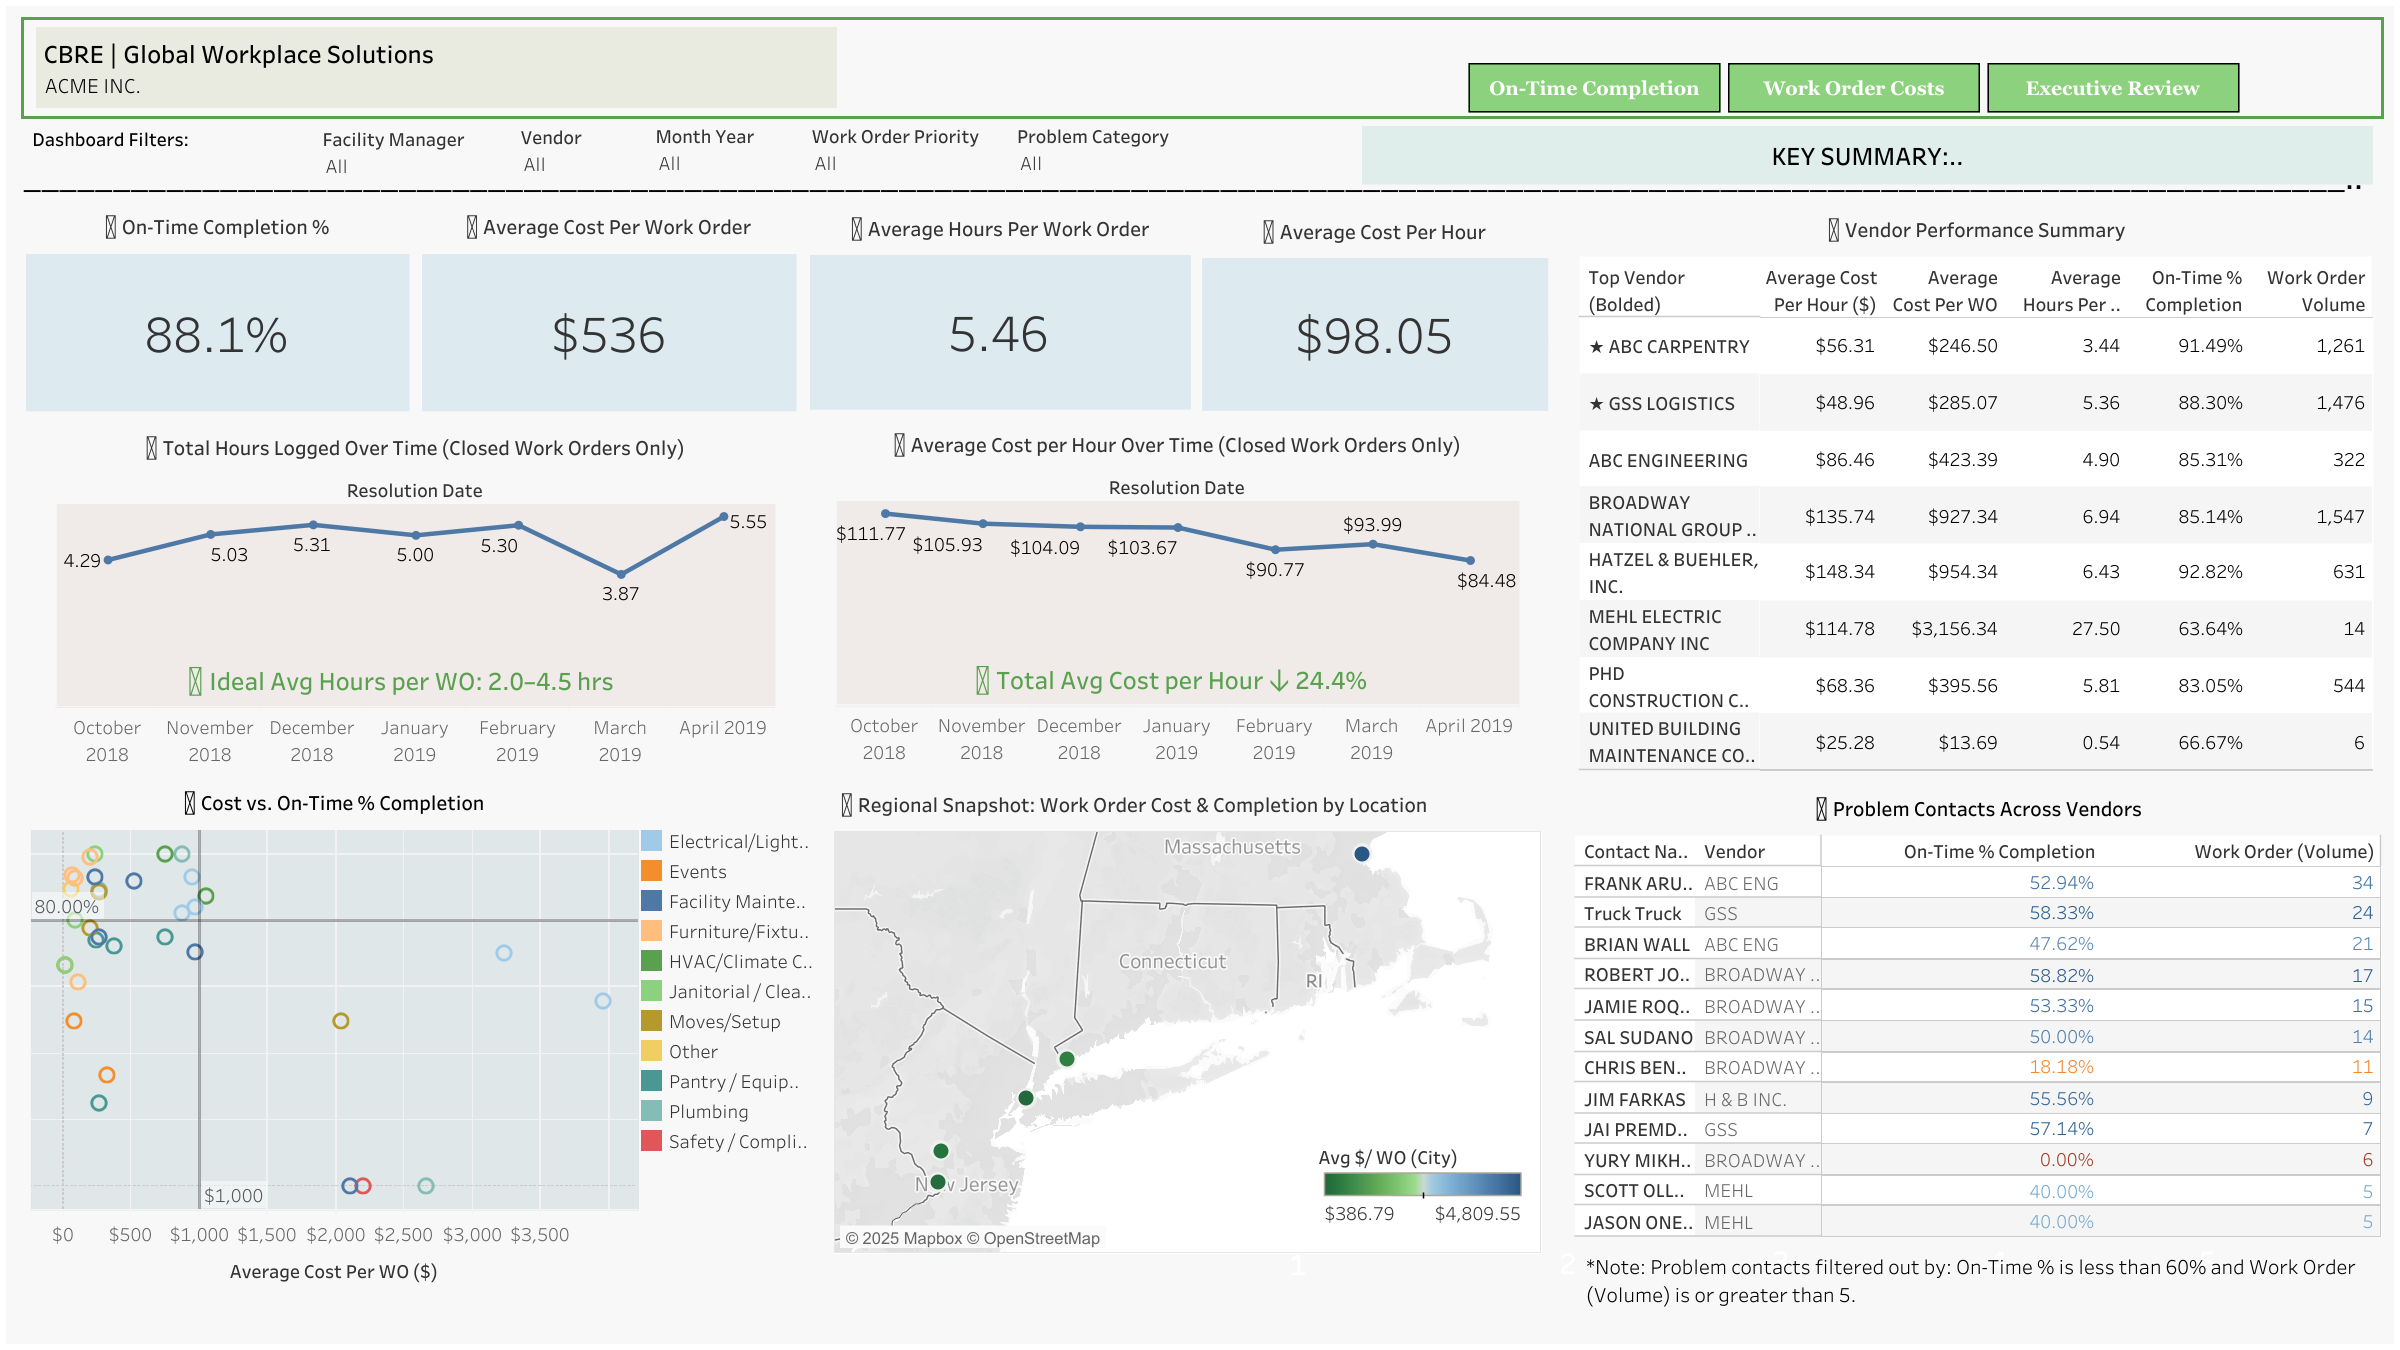

Layout of this report page (visuals, bound fields, positions):
{"tool":"tableau","page":{"name":"Executive Review","canvas":[1600,900],"ordinal":0},"visuals":[{"type":"blank","box":[0,0,1600,900]},{"type":"text","box":[14,11,1575,69]},{"type":"blank","box":[24,18,534.4,54]},{"type":"dashboard-object","box":[979.2,41.6,168,33.8]},{"type":"dashboard-object","box":[1152,41.6,168,33.8]},{"type":"dashboard-object","box":[1324.8,41.6,168,33.8]},{"type":"text","box":[19.2,75.4,176,33.8]},{"type":"filter","title":"WO Hours Over Time","param":"[federated.10plz2p0urz7om14d5ykq0hs0hhh].[my:Calculation_14707101945446400:ok]","box":[437,80,97,44]},{"type":"filter","title":"Geographic Snapshot","param":"[federated.10plz2p0urz7om14d5ykq0hs0hhh].[none:Work Order Priority:nk]","box":[541,80,131,47]},{"type":"filter","title":"Correlation (Cost vs. On-Time %)","param":"[federated.10plz2p0urz7om14d5ykq0hs0hhh].[none:Calculation_14355258390188033:nk]","box":[678,80,118,43]},{"type":"filter","title":"Vendor Performance Table","param":"[federated.10plz2p0urz7om14d5ykq0hs0hhh].[none:Vendor:nk]","box":[347,81,78,44]},{"type":"filter","title":"Geographic Snapshot","param":"[federated.10plz2p0urz7om14d5ykq0hs0hhh].[none:FM:nk]","box":[215,82,121,44]},{"type":"text","box":[908,84,674,39]},{"type":"text","box":[13,101,1571,33]},{"type":"worksheet","title":"KPI - On Time %","mark":"Text","box":[13,131,263,146]},{"type":"worksheet","title":"KPI - Avg/WO ($)","mark":"Text","box":[277,131,257,146]},{"type":"worksheet","title":"KPI - Avg Hours/WO","mark":"Text","box":[536,132,261,144]},{"type":"worksheet","title":"Vendor Performance Table","mark":"Automatic","rows":["Calculation_1125935098257447"],"box":[1053,137,529,377]},{"type":"worksheet","title":"Avg $/Hour","mark":"Automatic","box":[801,138,230,135]},{"type":"worksheet","title":"Avg $/Hour Over Time","mark":"Automatic","rows":["Calculation_14284890077257766"],"cols":["Resolution Date"],"box":[557,280,455,230]},{"type":"worksheet","title":"WO Hours Over Time","mark":"Automatic","rows":["Calculation_14284890118000688"],"cols":["Resolution Date"],"box":[37,282,479,229]},{"type":"text","box":[647,437,287,30]},{"type":"text","box":[122,438,290,30]},{"type":"worksheet","title":"Correlation (Cost vs. On-Time %)","mark":"Automatic","rows":["Calculation_1125933994991678"],"cols":["Calculation_14284890093019178"],"box":[20,519,405,344]},{"type":"worksheet","title":"Geographic Snapshot","mark":"Circle","box":[556,520,472,316]},{"type":"worksheet","title":"Problem Contacts Per Vendor","mark":"Automatic","rows":["Contact Name","Vendor"],"box":[1050,523,538,302]},{"type":"legend","title":"Correlation (Cost vs. On-Time %)","param":"[federated.10plz2p0urz7om14d5ykq0hs0hhh].[none:Calculation_14355258390188033:nk]","box":[424,550,119,259]},{"type":"text","box":[1346,698,25,30]},{"type":"text","box":[1431,698,25,30]},{"type":"text","box":[961,699,25,30]},{"type":"text","box":[1060,699,25,30]},{"type":"text","box":[1156,699,25,30]},{"type":"text","box":[1250,699,25,30]},{"type":"text","box":[1528,700,25,30]},{"type":"legend","title":"Geographic Snapshot","param":"[federated.10plz2p0urz7om14d5ykq0hs0hhh].[attr:Calculation_1125935035609123:qk]","box":[879,758,140,80]},{"type":"text","box":[1179,825,25,30]},{"type":"text","box":[1324,825,25,30]},{"type":"text","box":[1463,825,25,30]},{"type":"text","box":[1037,826,25,30]},{"type":"text","box":[857,827,25,30]},{"type":"text","box":[1055,834,533,38]}]}

Visuals, with their boxes in screenshot pixels (x1, y1, x2, y2), scaled from the page's 1600x900 canvas onto the 2400x1350 screenshot:
blank: (x1=0, y1=0, x2=2399, y2=1349)
text: (x1=21, y1=16, x2=2384, y2=120)
blank: (x1=36, y1=27, x2=838, y2=108)
dashboard-object: (x1=1469, y1=62, x2=1721, y2=113)
dashboard-object: (x1=1728, y1=62, x2=1980, y2=113)
dashboard-object: (x1=1987, y1=62, x2=2239, y2=113)
text: (x1=29, y1=113, x2=293, y2=164)
"WO Hours Over Time" filter: (x1=656, y1=120, x2=801, y2=186)
"Geographic Snapshot" filter: (x1=812, y1=120, x2=1008, y2=190)
"Correlation (Cost vs. On-Time %)" filter: (x1=1017, y1=120, x2=1194, y2=184)
"Vendor Performance Table" filter: (x1=520, y1=122, x2=638, y2=188)
"Geographic Snapshot" filter: (x1=322, y1=123, x2=504, y2=189)
text: (x1=1362, y1=126, x2=2373, y2=184)
text: (x1=20, y1=152, x2=2376, y2=201)
"KPI - On Time %" worksheet (Text marks): (x1=20, y1=196, x2=414, y2=416)
"KPI - Avg/WO ($)" worksheet (Text marks): (x1=416, y1=196, x2=801, y2=416)
"KPI - Avg Hours/WO" worksheet (Text marks): (x1=804, y1=198, x2=1196, y2=414)
"Vendor Performance Table" worksheet: (x1=1580, y1=206, x2=2373, y2=771)
"Avg $/Hour" worksheet: (x1=1202, y1=207, x2=1546, y2=410)
"Avg $/Hour Over Time" worksheet: (x1=836, y1=420, x2=1518, y2=765)
"WO Hours Over Time" worksheet: (x1=56, y1=423, x2=774, y2=766)
text: (x1=970, y1=656, x2=1401, y2=700)
text: (x1=183, y1=657, x2=618, y2=702)
"Correlation (Cost vs. On-Time %)" worksheet: (x1=30, y1=778, x2=638, y2=1294)
"Geographic Snapshot" worksheet (Circle marks): (x1=834, y1=780, x2=1542, y2=1254)
"Problem Contacts Per Vendor" worksheet: (x1=1575, y1=784, x2=2382, y2=1238)
"Correlation (Cost vs. On-Time %)" legend: (x1=636, y1=825, x2=814, y2=1214)
text: (x1=2019, y1=1047, x2=2056, y2=1092)
text: (x1=2146, y1=1047, x2=2184, y2=1092)
text: (x1=1442, y1=1048, x2=1479, y2=1094)
text: (x1=1590, y1=1048, x2=1628, y2=1094)
text: (x1=1734, y1=1048, x2=1772, y2=1094)
text: (x1=1875, y1=1048, x2=1912, y2=1094)
text: (x1=2292, y1=1050, x2=2330, y2=1095)
"Geographic Snapshot" legend: (x1=1318, y1=1137, x2=1528, y2=1257)
text: (x1=1768, y1=1238, x2=1806, y2=1282)
text: (x1=1986, y1=1238, x2=2024, y2=1282)
text: (x1=2194, y1=1238, x2=2232, y2=1282)
text: (x1=1556, y1=1239, x2=1593, y2=1284)
text: (x1=1286, y1=1240, x2=1323, y2=1286)
text: (x1=1582, y1=1251, x2=2382, y2=1308)
